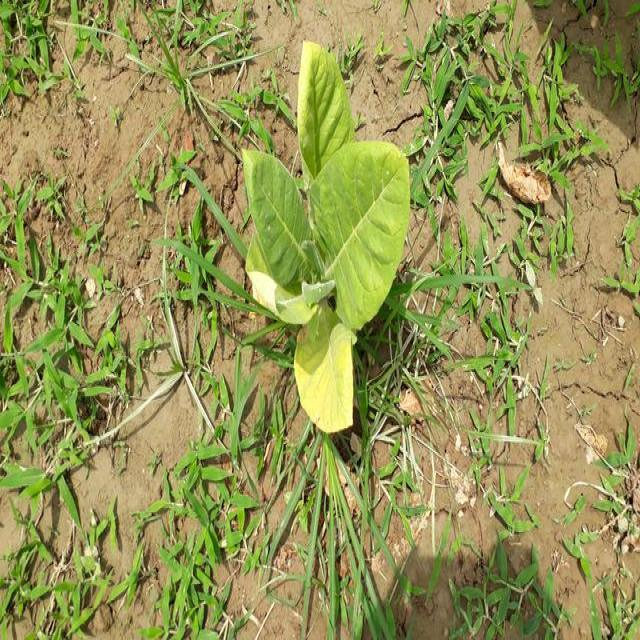crop: (246, 47, 415, 437)
